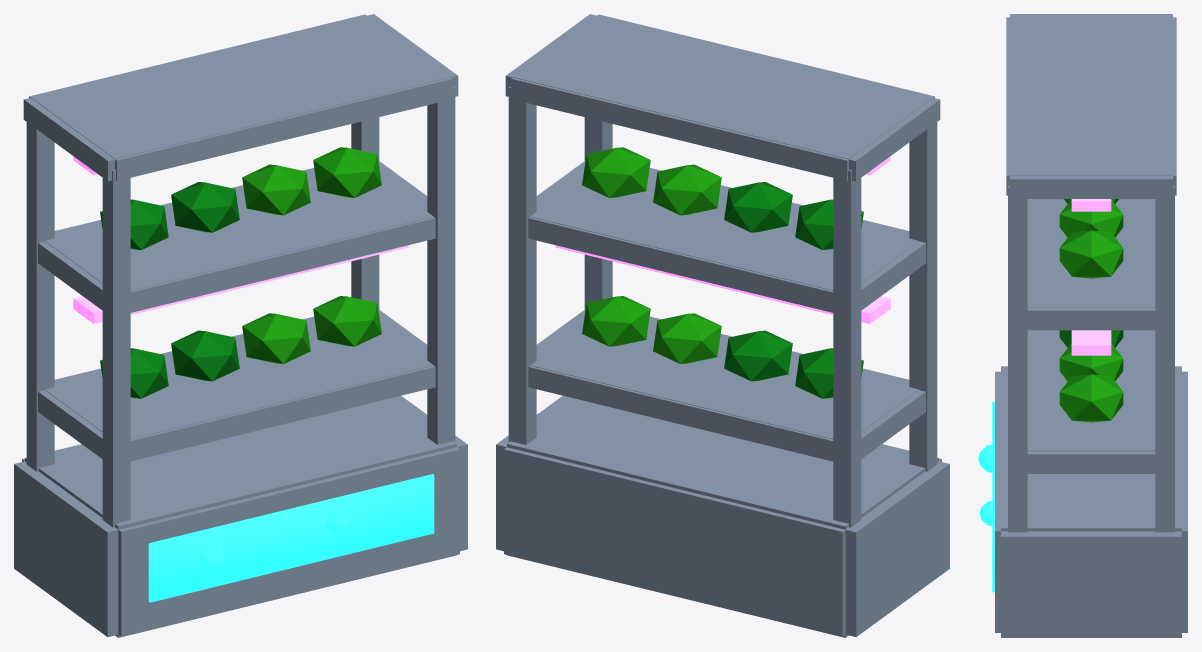
Rendered from prop_hydro_rack.glb.
3 views of the same model, side by side, from view 1: azimuth 30°, elevation 25°; view 2: azimuth 150°, elevation 25°; view 3: azimuth 270°, elevation 25° (orthographic). The views are drawn at different scales.
Parts seen in each view (by area): view 1: PropHydroRack, HydroBubbles; view 2: PropHydroRack; view 3: PropHydroRack, HydroBubbles.
Boxes of the visible parts, bbox=[...] form: PropHydroRack: bbox=[14, 14, 467, 637]; HydroBubbles: bbox=[148, 474, 434, 602]; PropHydroRack: bbox=[496, 14, 949, 637]; PropHydroRack: bbox=[995, 14, 1187, 637]; HydroBubbles: bbox=[978, 401, 994, 592].
Bounding box in the file's own units: 1.42 × 1.79 × 0.74.
